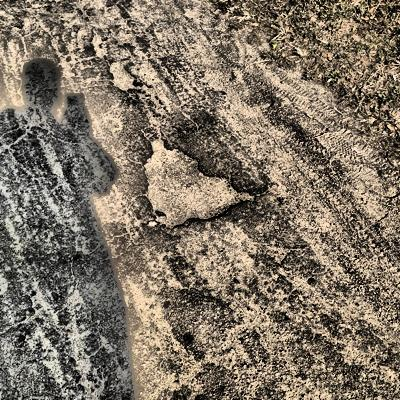pothole: (138, 134, 257, 229), (106, 59, 141, 91)
